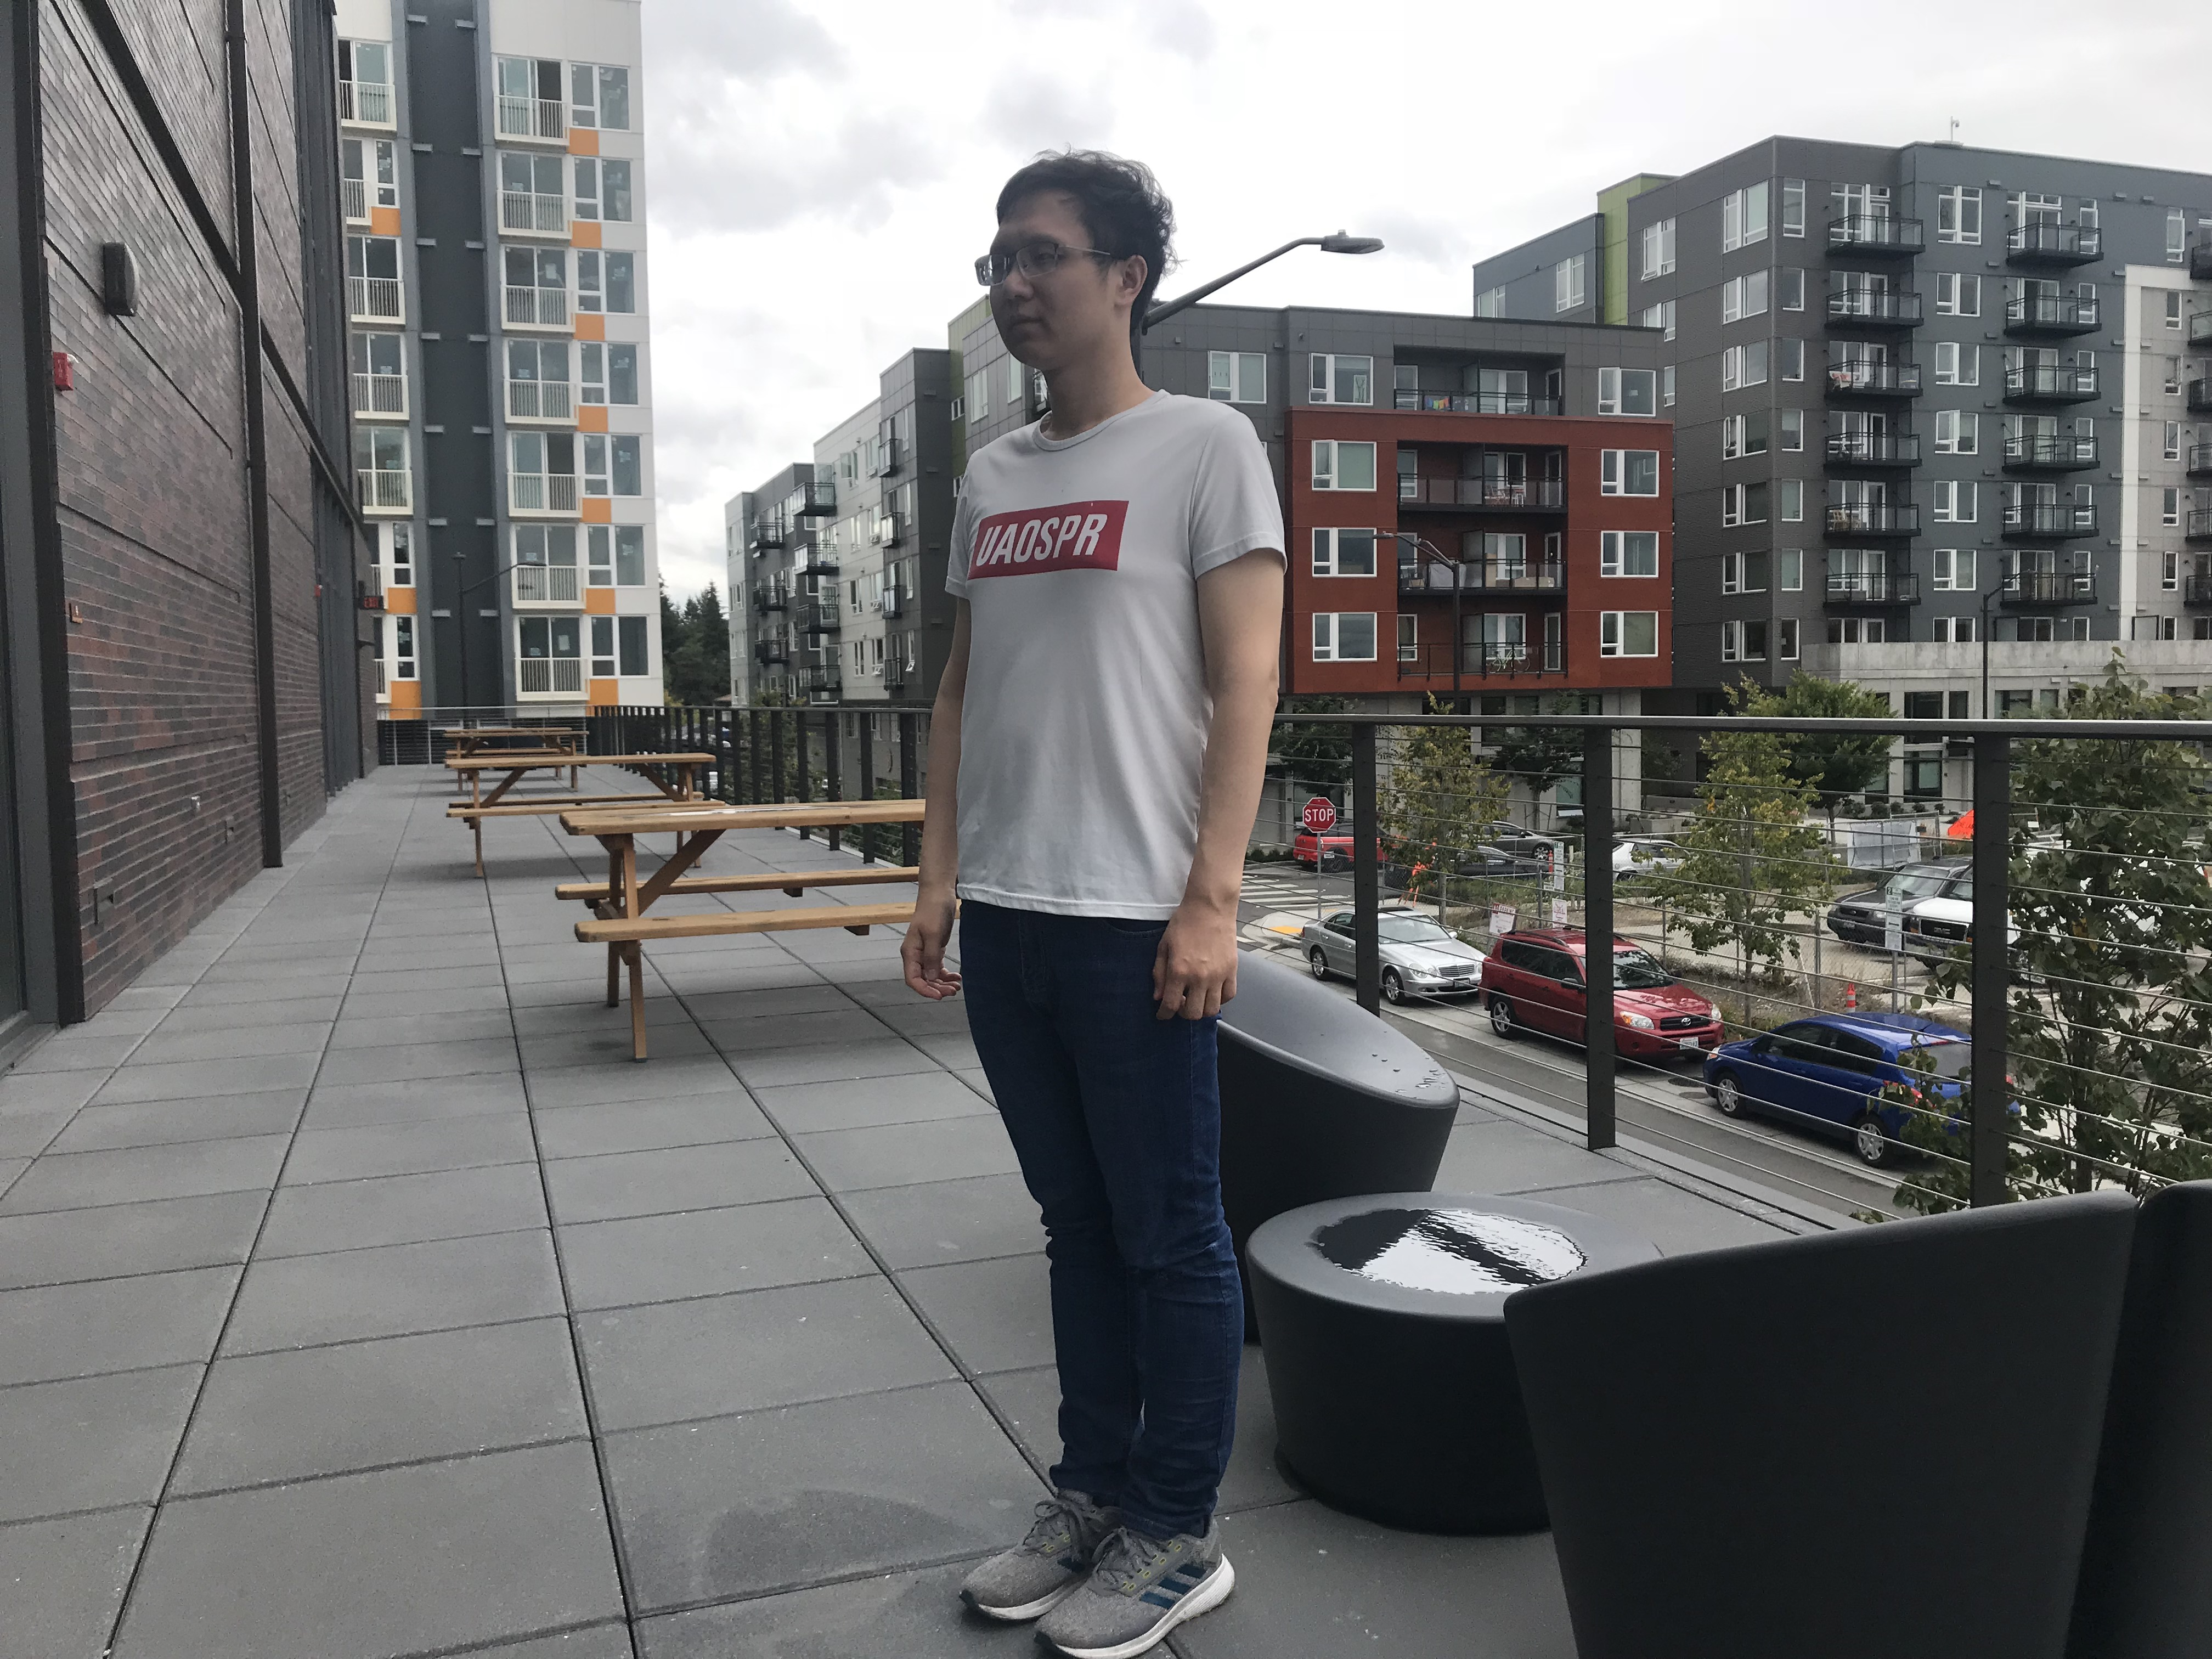attack_zone: (1008, 462, 1170, 826), (2003, 132, 2022, 160)
